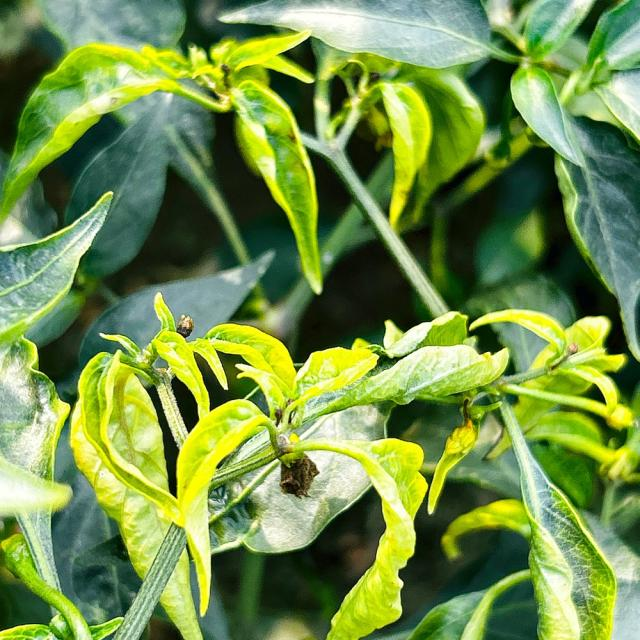Chilli_Leaf_Curl: (1, 1, 638, 638), (68, 292, 510, 638), (216, 0, 638, 361), (1, 28, 324, 294), (0, 188, 114, 629), (493, 398, 618, 638), (228, 78, 324, 294), (215, 0, 496, 70)
